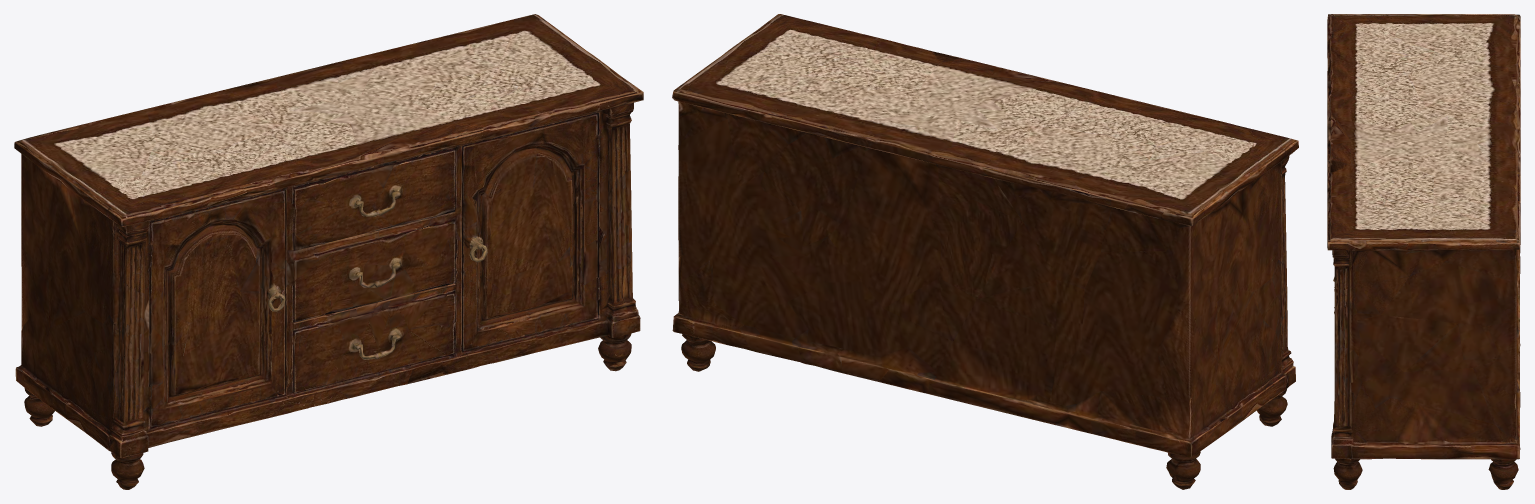
The model's file is sideboard.glb.
3 views of the same model, side by side, from view 1: azimuth 30°, elevation 25°; view 2: azimuth 150°, elevation 25°; view 3: azimuth 270°, elevation 25° (orthographic). The views are drawn at different scales.
Size of the model in its own units: 1.9 by 0.9846 by 0.6791.
1 material, 1 textured.
